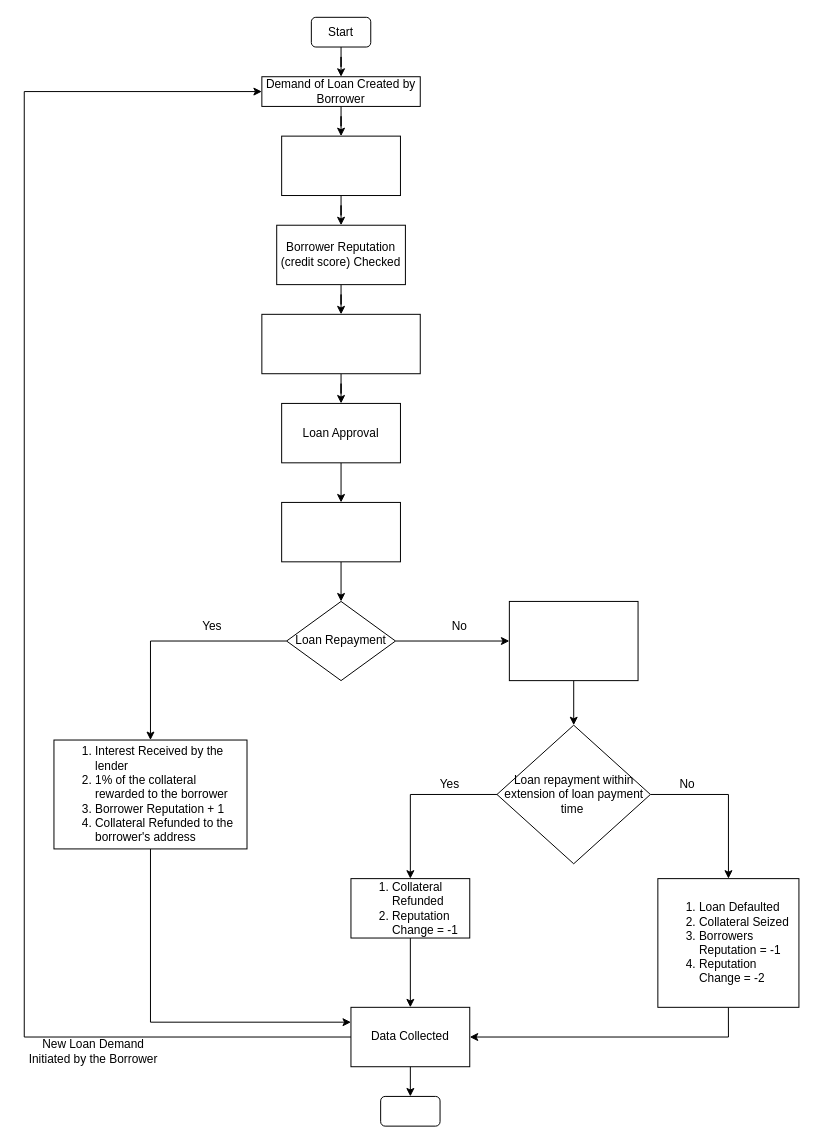
This 817x1143 diagram has some shape labels left out. The shapes that lost their labels are listed below. From the top down, each one's centre as x and y in pixels, then its label:
At pixel 340 165: "Smart Contract initiated by the lender".
At pixel 340 343: "Borrower submits 20% of Principle of loan as collateral".
At pixel 340 531: "Loan transaction to borrower's address".
At pixel 573 640: "Late Fee- 0.5 % / day Borrower Reputation - 1".
At pixel 410 1110: "Stop".
